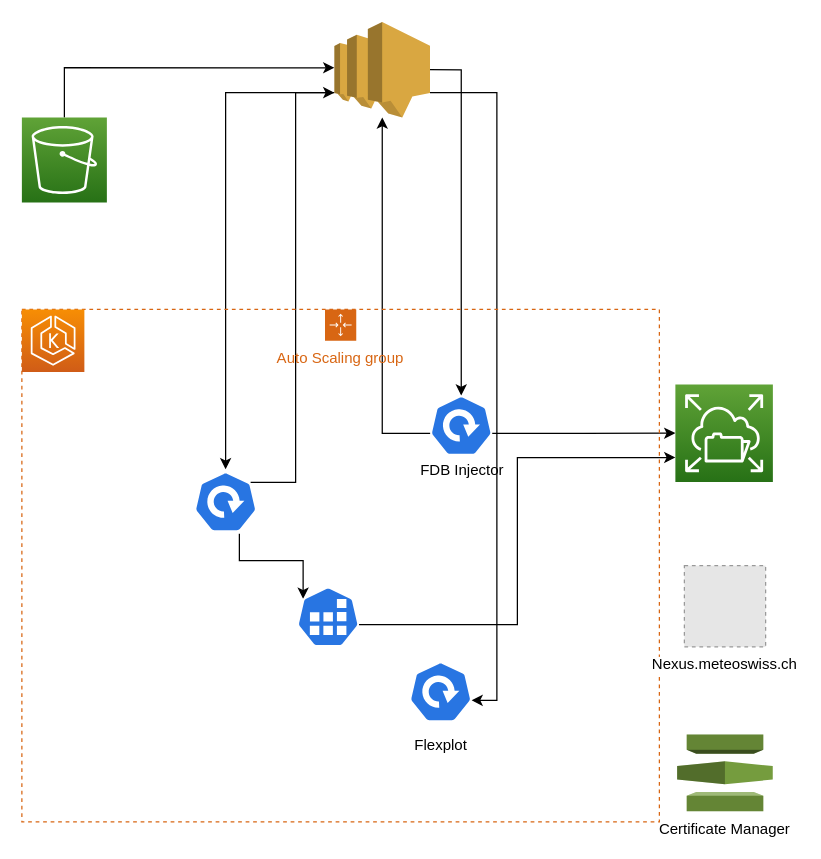
The diagram is 821 pixels wide and 859 high, and some of its shapes have lost their labels. Grey dashed boxes stand in for pictures. The shapes that lost their labels are listed below. From the top down, each one's centre as x and y in pixels, then its label:
the point at 381,69: Simple Notification Service
the point at 225,501: Flexpart-s
the point at 327,616: flexpart
